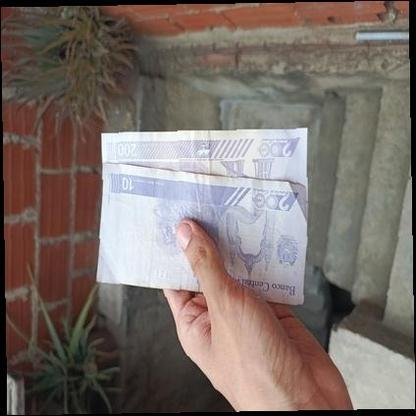ten-back-vef: (96, 162, 306, 305)
two_hundred-back-vef: (101, 128, 308, 187)
